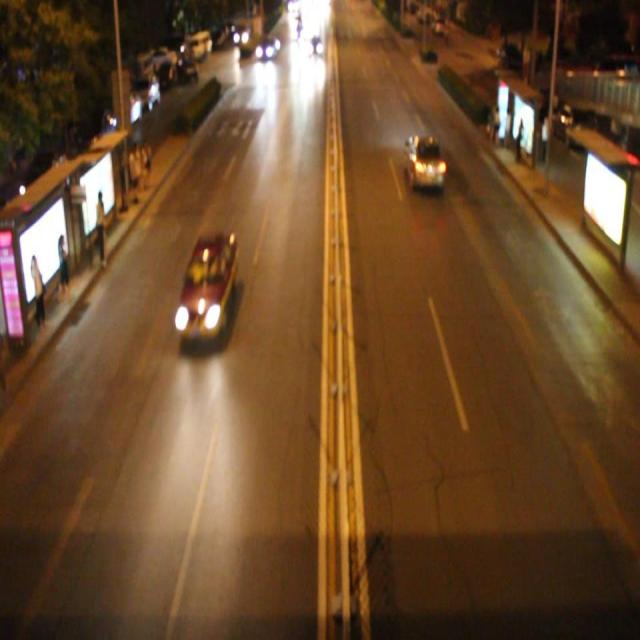car: (173, 232, 240, 342), (405, 134, 445, 192)
